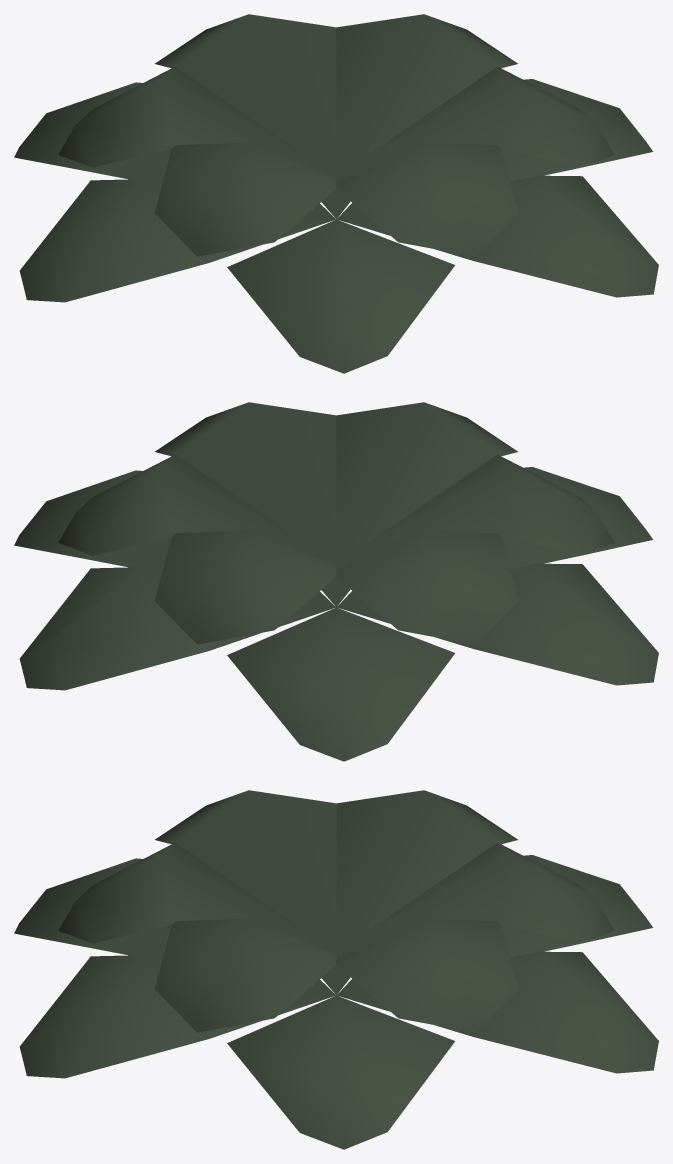
Rendered from Environment_Bush_1.fbx.
3 views of the same model, one above another, from view 1: azimuth 30°, elevation 25°; view 2: azimuth 150°, elevation 25°; view 3: azimuth 270°, elevation 25° (orthographic).
Visible parts, largest first — view 1: Bush__1; view 2: Bush__1; view 3: Bush__1.
Boxes of the visible parts, x1,y1,x2,y2 form: Bush__1: (14, 14, 658, 373); Bush__1: (14, 402, 658, 761); Bush__1: (14, 790, 658, 1149).
Size of the model in its own units: 1452 by 315 by 1294.
